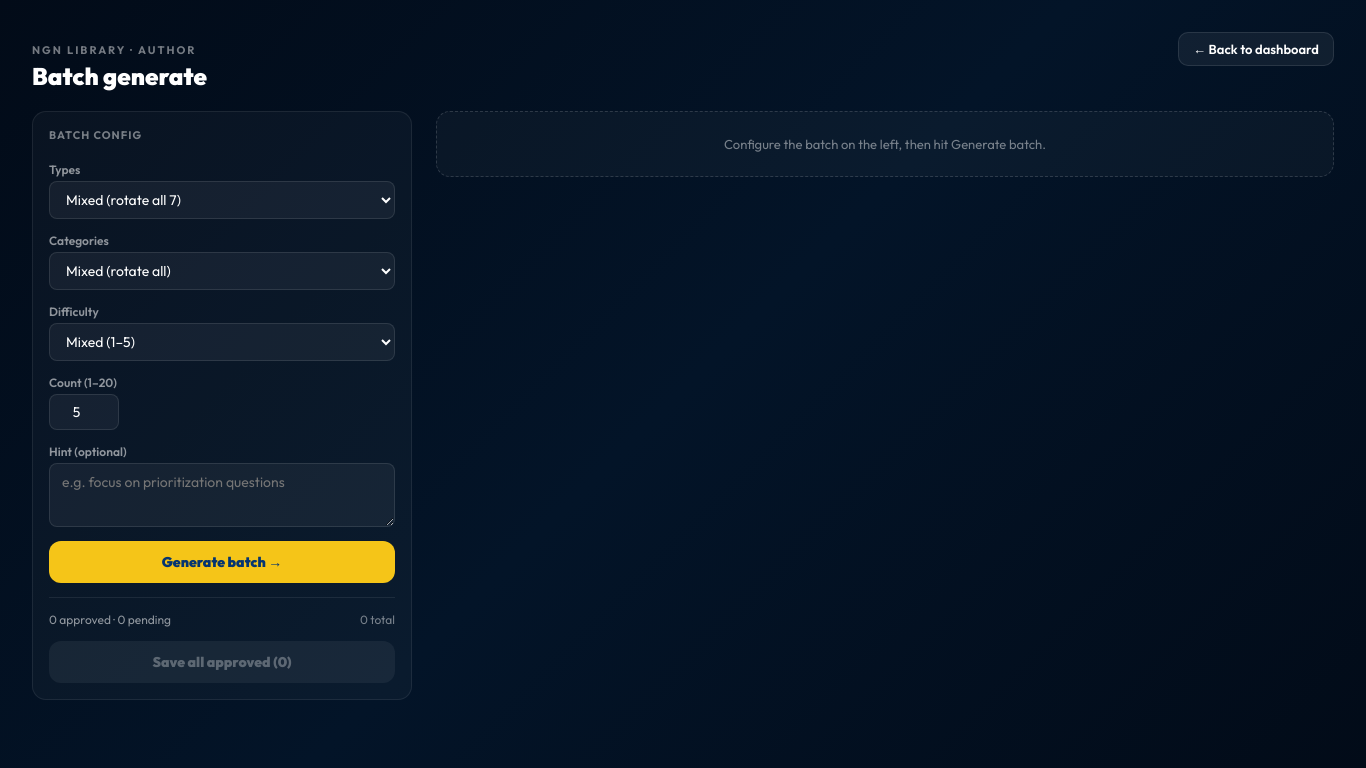
Test: NGNBatchScreen › streams cards into the list as they are generated
This screenshot has width=1366, height=768.
Replace the text in the number field named "Batch count" with "3": [84, 412] box [49,394,119,430]
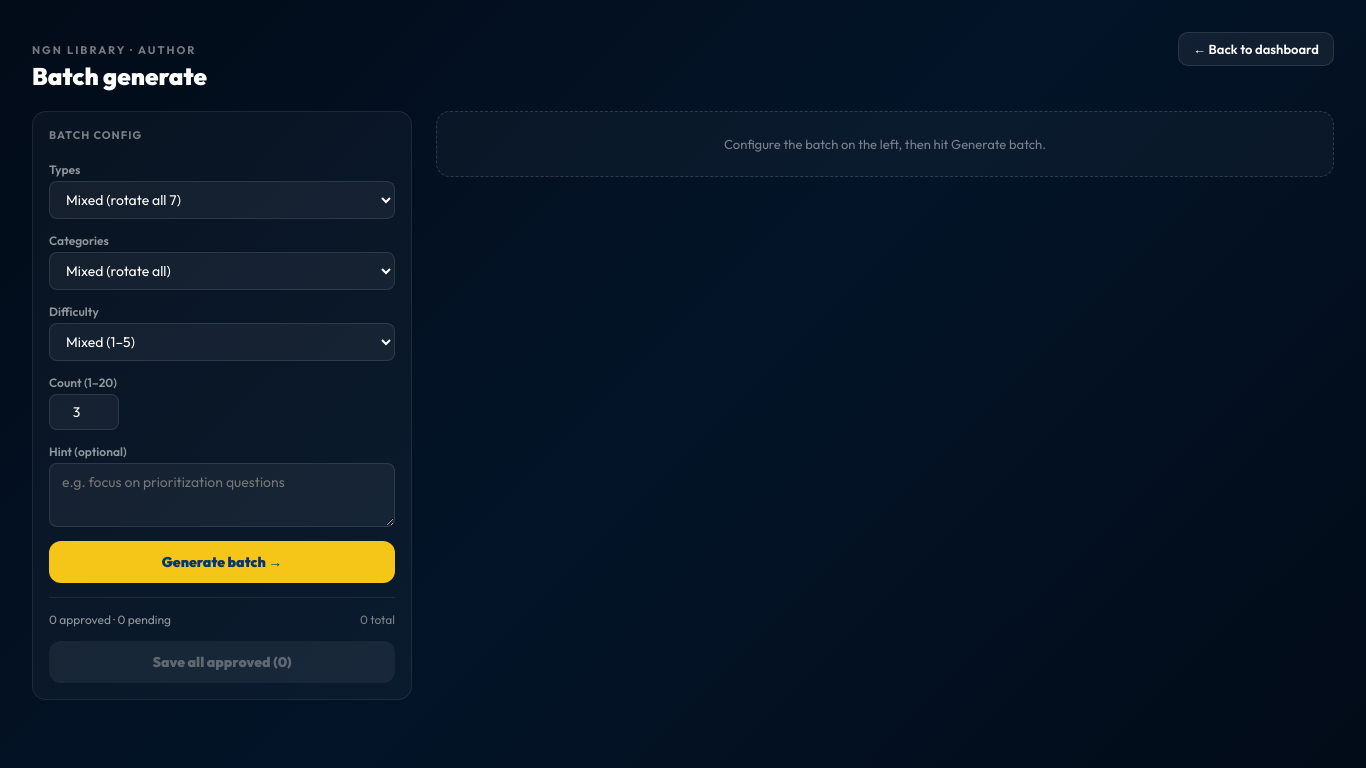
Click the button with test id "batch-generate-btn": [222, 562] box [49,541,395,583]
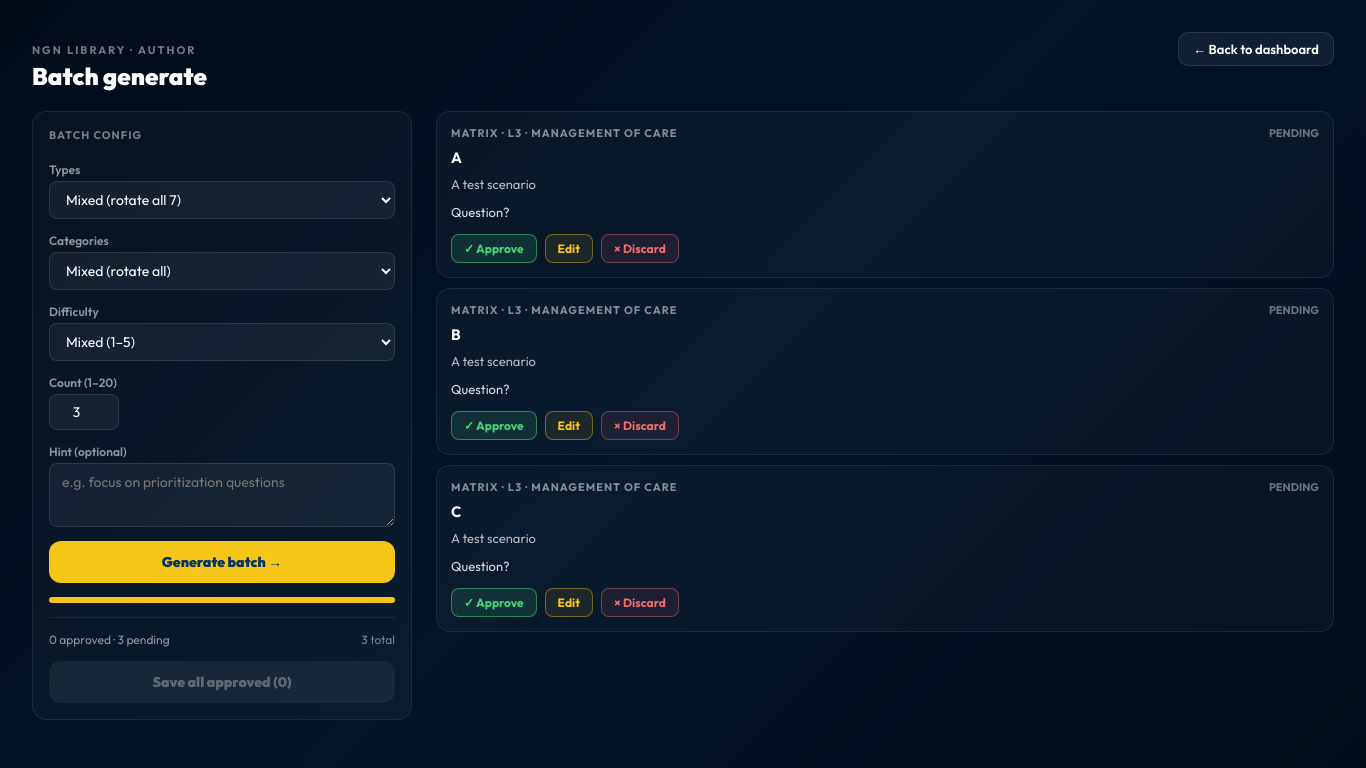
Check: the text "B" is shown, box [451,325,461,344]
Check: the text "A" is shown, box [451,148,462,167]
Check: the text "C" is shown, box [451,502,461,521]
